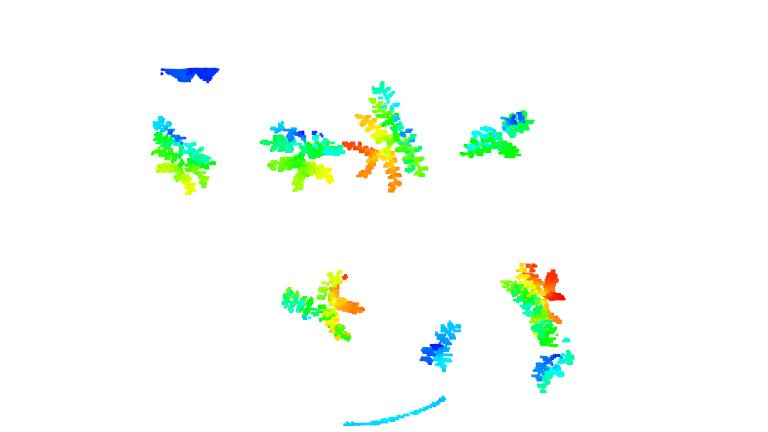chickpea: (343, 82, 427, 194), (279, 268, 365, 343), (260, 121, 347, 195), (499, 260, 568, 350), (147, 112, 215, 197), (458, 110, 535, 165), (417, 319, 460, 373), (531, 349, 575, 394)
